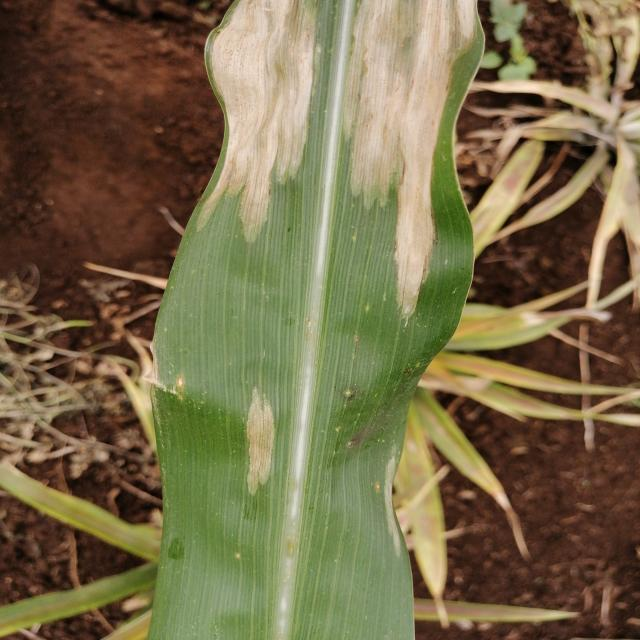Corn_Leaf_Blight: (138, 0, 494, 462)
